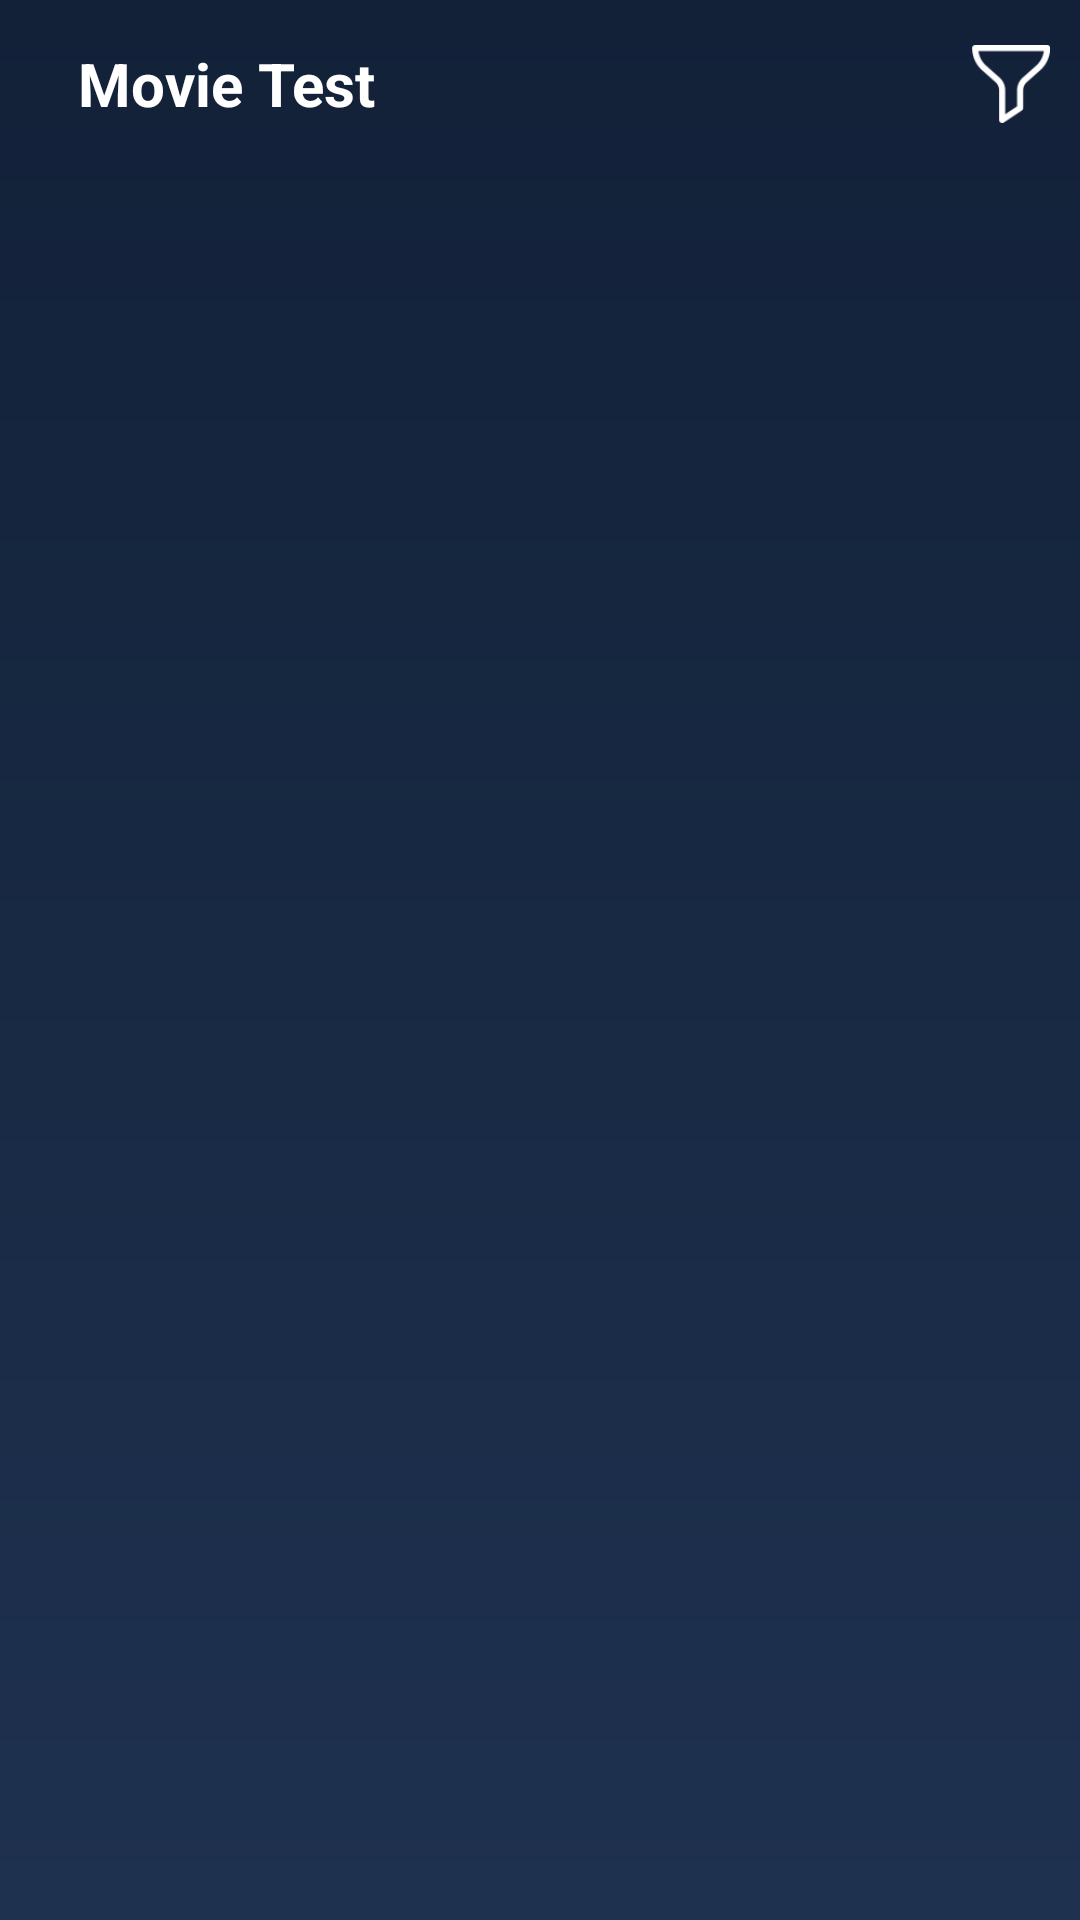

Named icons in this screenshot (1080x1920) and their centers, (x,y):
filter: (1011,84)
